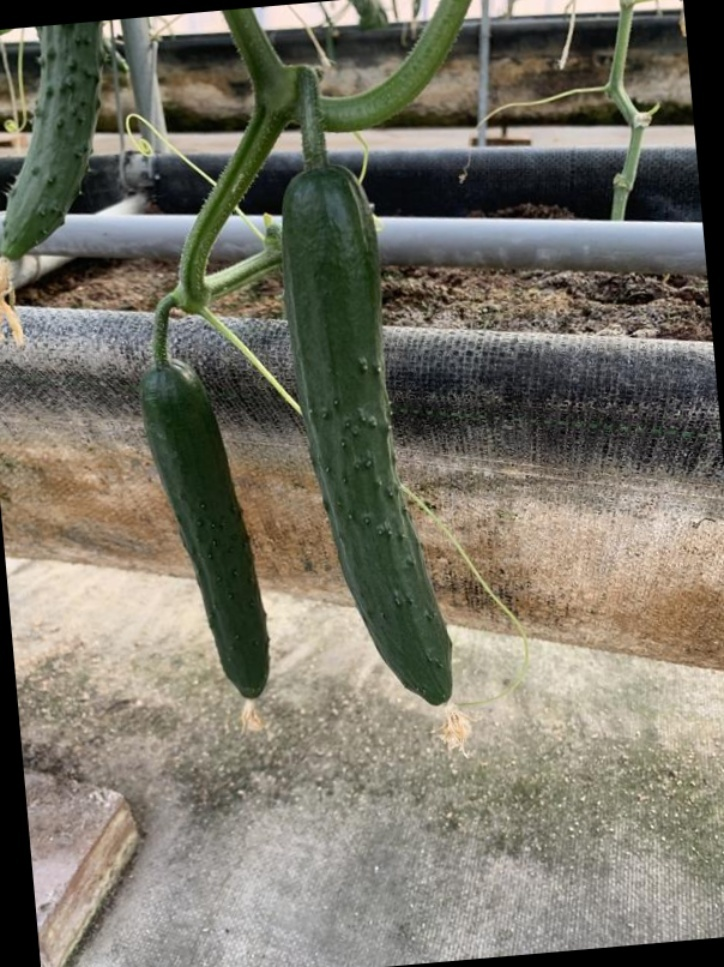mature: (263, 160, 467, 699), (133, 350, 276, 710)
